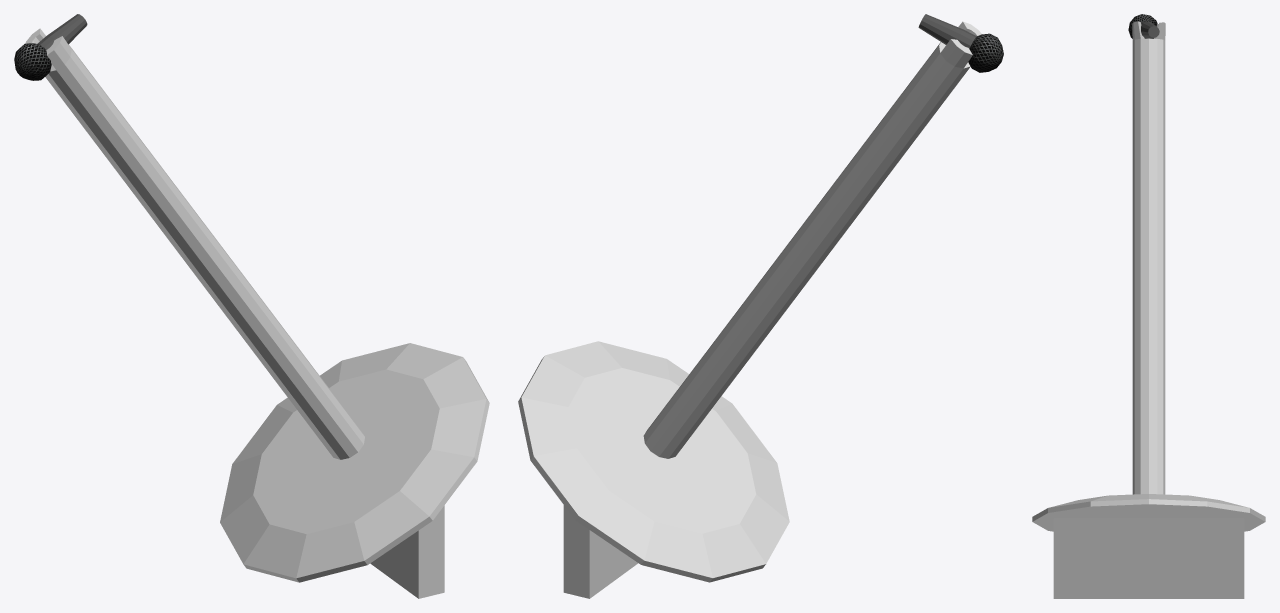
Rendered from Microphone.fbx.
3 renders of one model, left to right at view 1: azimuth 30°, elevation 25°; view 2: azimuth 150°, elevation 25°; view 3: azimuth 270°, elevation 25°, orthographic. The views are drawn at different scales.
Parts seen in each view (by area): view 1: Base, Stand, Cube, Microphone; view 2: Base, Stand, Cube, Microphone; view 3: Stand, Cube, Base, Microphone.
Part boxes in pixels (<box>): Base: <box>220,343,489,582</box>; Stand: <box>25,28,364,459</box>; Cube: <box>370,505,444,598</box>; Microphone: <box>14,14,87,80</box>; Base: <box>518,341,789,582</box>; Stand: <box>643,21,981,458</box>; Cube: <box>563,505,637,598</box>; Microphone: <box>918,14,1003,72</box>; Stand: <box>1132,21,1165,494</box>; Cube: <box>1053,518,1244,598</box>; Base: <box>1032,494,1265,531</box>; Microphone: <box>1128,14,1159,38</box>.
Bounding box in the file's own units: 897 × 1141 × 523.
